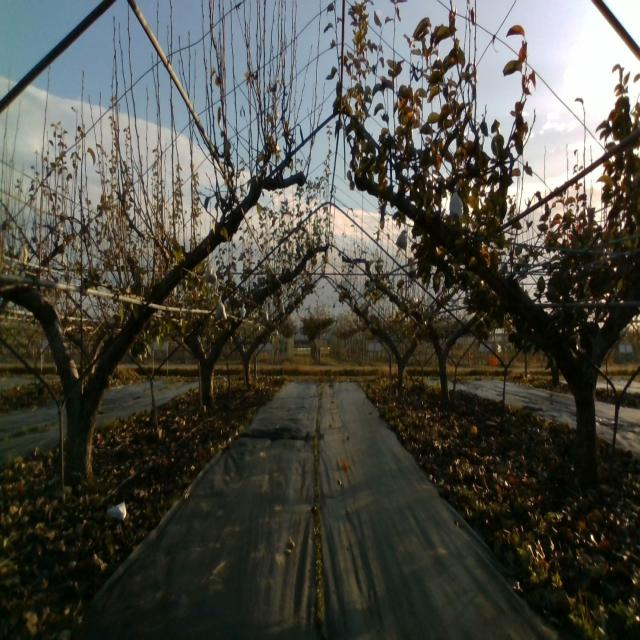pearbags: (449, 190, 464, 220), (213, 296, 227, 322), (204, 261, 218, 285), (396, 230, 408, 250)
